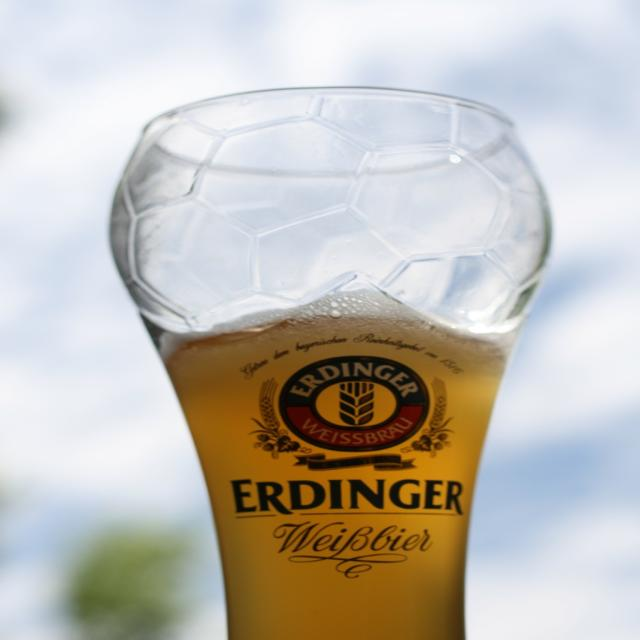erdinger: (227, 332, 476, 522)
